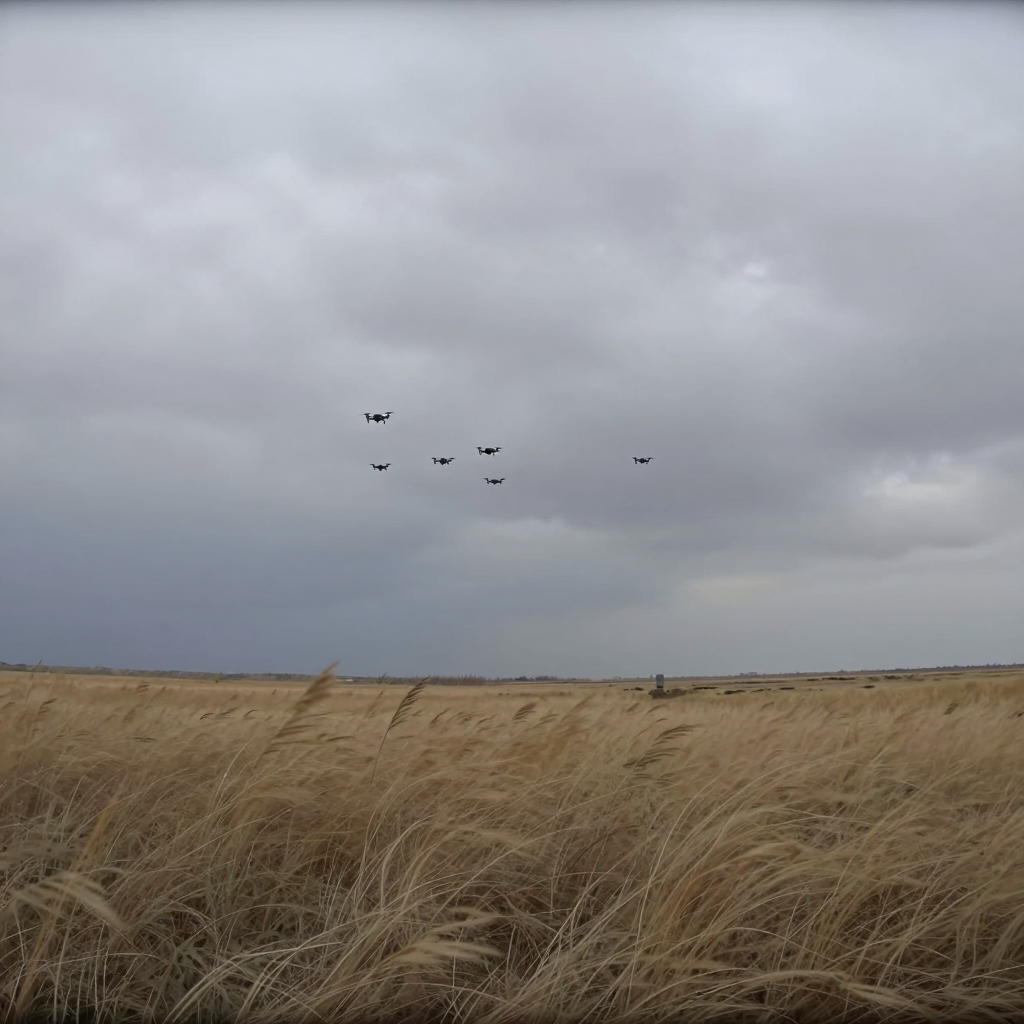drone: (359, 412, 394, 424), (476, 446, 503, 457), (431, 457, 456, 466), (369, 463, 391, 472), (632, 457, 654, 465), (483, 478, 506, 485)
